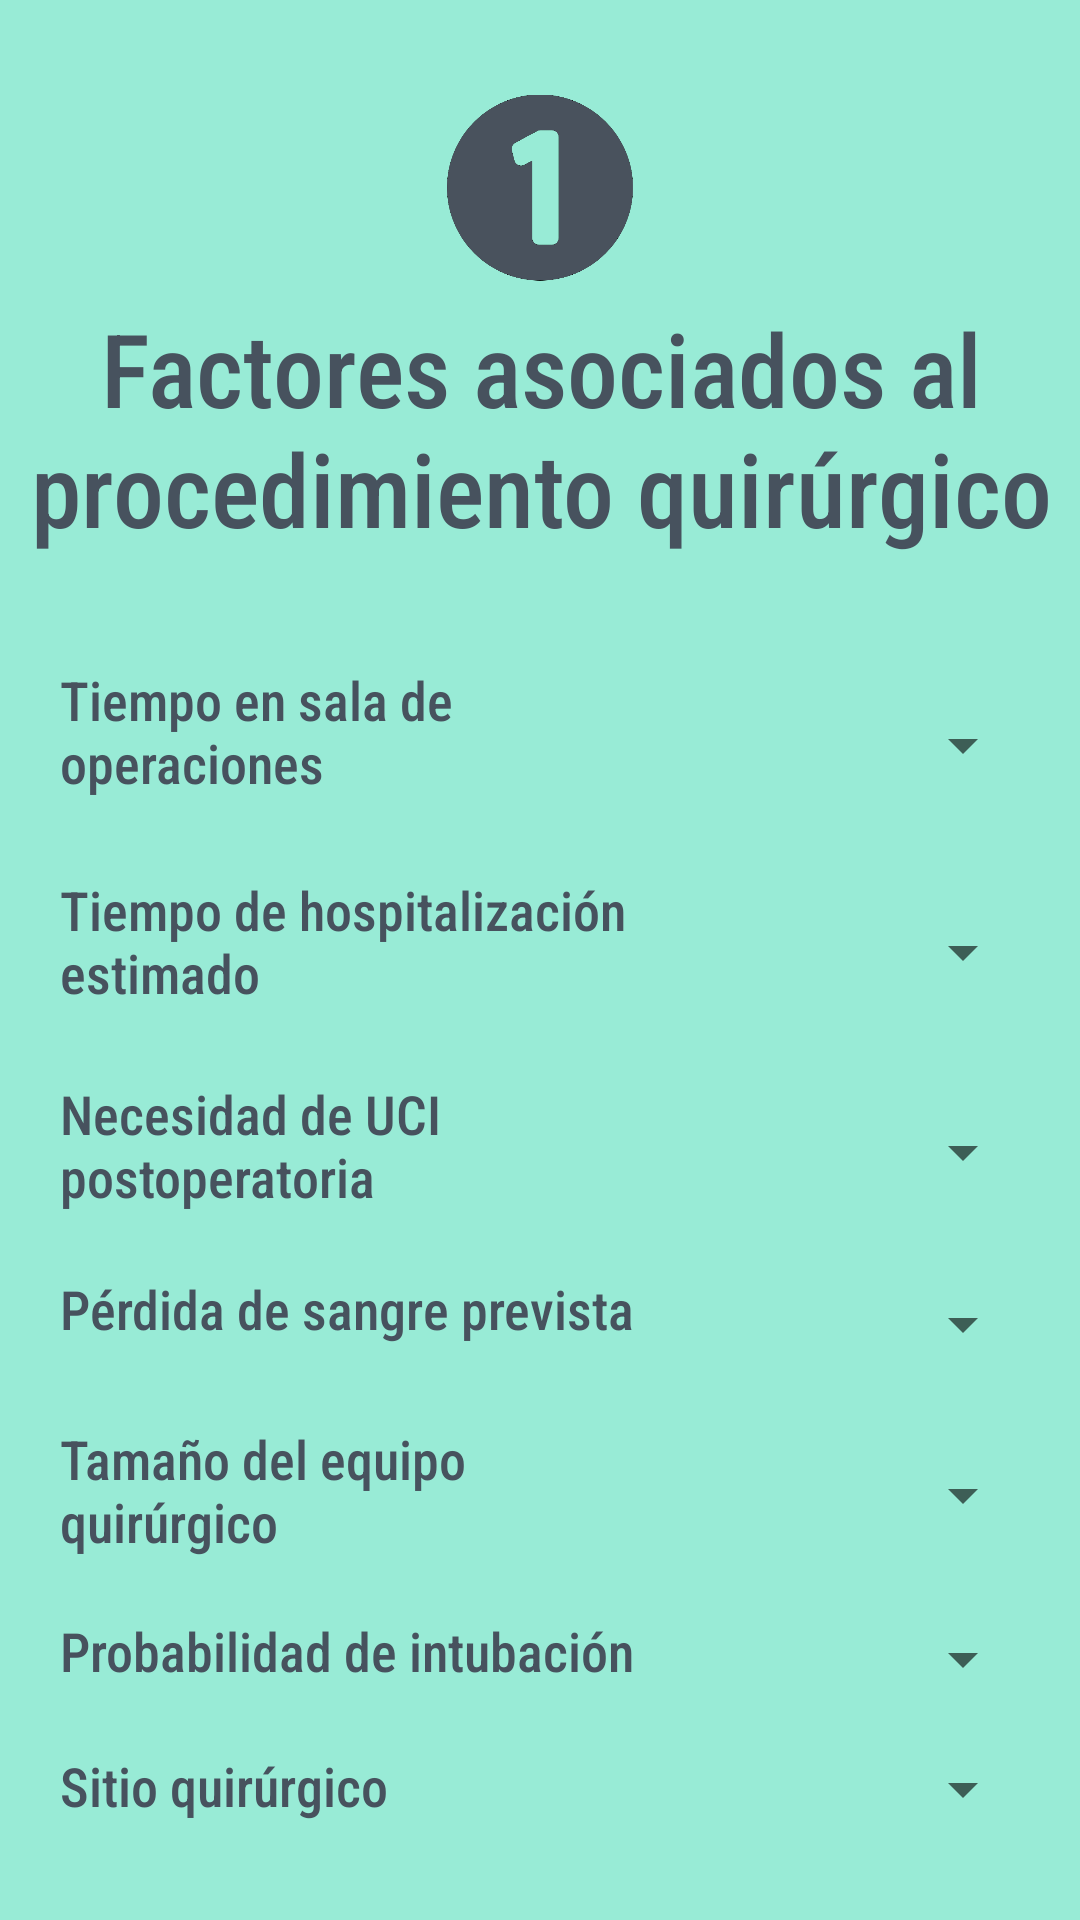

Icon click points for this 1080*1920 phone screenshot, format point (x, y):
numero: point (540, 188)
